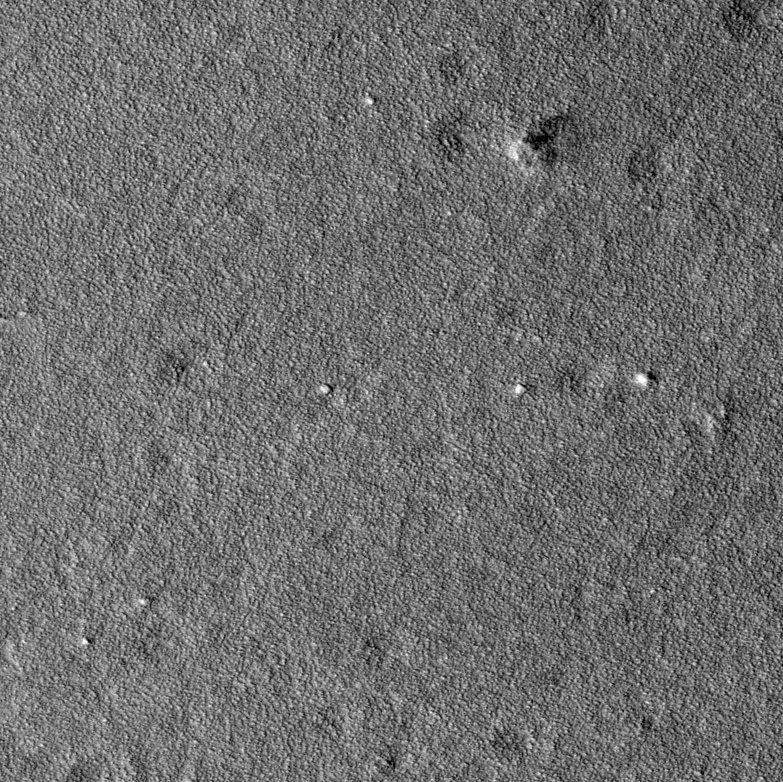dust_devil: (506, 114, 568, 163)
